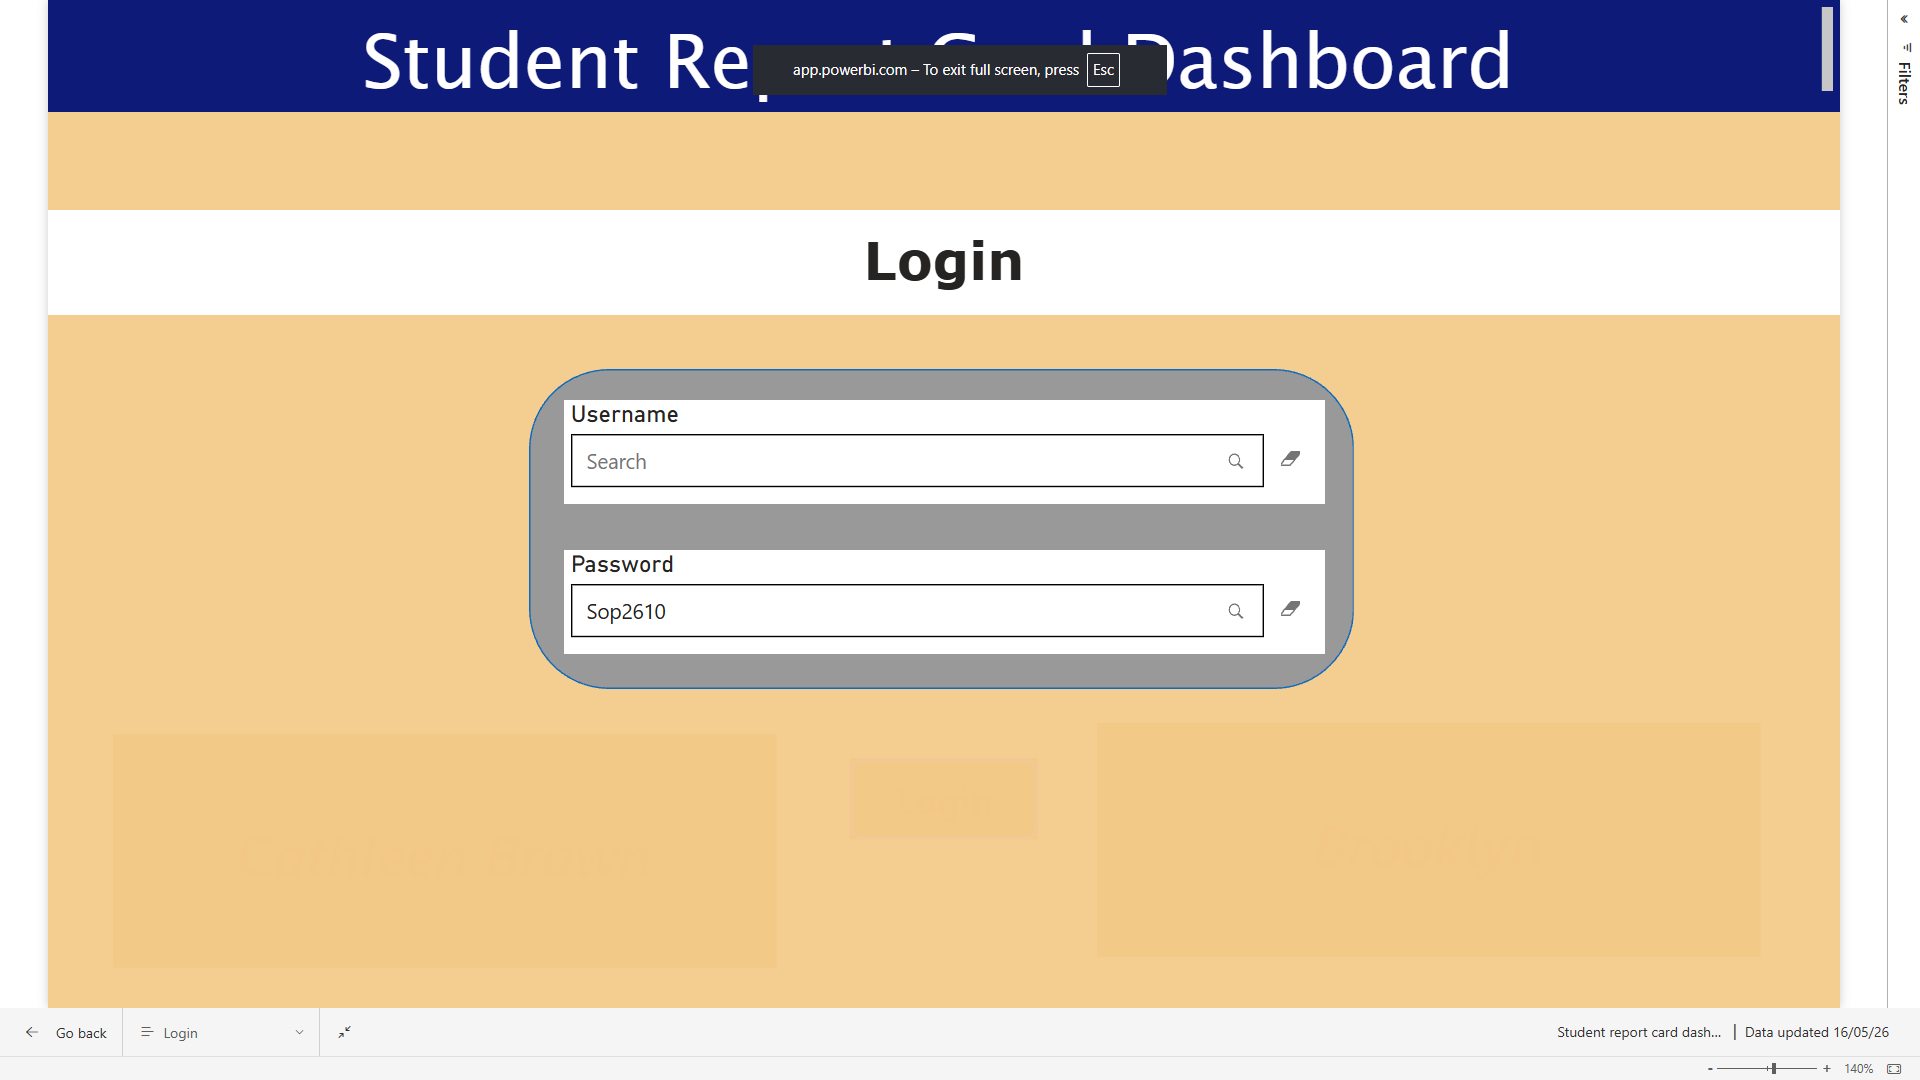

The dashboard page shown, as its layout file describes it:
{"tool":"powerbi","page":{"name":"Login","canvas":[1280,720],"ordinal":0},"visuals":[{"type":"textbox","box":[0,0,1280,79.8],"z":0},{"type":"textbox","box":[0,149.8,1280,74.9],"z":1000},{"type":"shape","box":[343.3,263.6,589.4,228.6],"z":2000},{"type":"textFilter25A4896A83E0487089E2B90C9AE57C8A","title":"Username","fields":{"field":["Final_data.Phone"]},"box":[368.6,286,542.7,73.9],"z":3000},{"type":"textFilter25A4896A83E0487089E2B90C9AE57C8A","fields":{"field":["Final_data.Password"]},"box":[368.6,392.9,542.7,73.9],"z":4000},{"type":"cardVisual","title":"h","fields":{"Data":["Min(Final_data.Full Name)"]},"box":[46.7,524.3,473.7,167.3],"z":5000},{"type":"cardVisual","fields":{"Data":["Min(Final_data.Center)"]},"box":[748.9,516.5,473.7,167.3],"z":6000},{"type":"actionButton","box":[572.9,541.8,134.2,58.4],"z":7000}]}

Visuals, with their boxes on the page's 1280x720 design canvas (x1, y1, x2, y2). These are canvas units, not pixel positions in the 1920x1080 screenshot, which may show the page scaled, cropped or inside an application window:
textbox: box=[0, 0, 1280, 80]
textbox: box=[0, 150, 1280, 225]
shape: box=[343, 264, 933, 492]
"Username" textFilter25A4896A83E0487089E2B90C9AE57C8A: box=[369, 286, 911, 360]
textFilter25A4896A83E0487089E2B90C9AE57C8A - Final_data.Password: box=[369, 393, 911, 467]
"h" cardVisual: box=[47, 524, 520, 692]
cardVisual - Min(Final_data.Center): box=[749, 516, 1223, 684]
actionButton: box=[573, 542, 707, 600]
